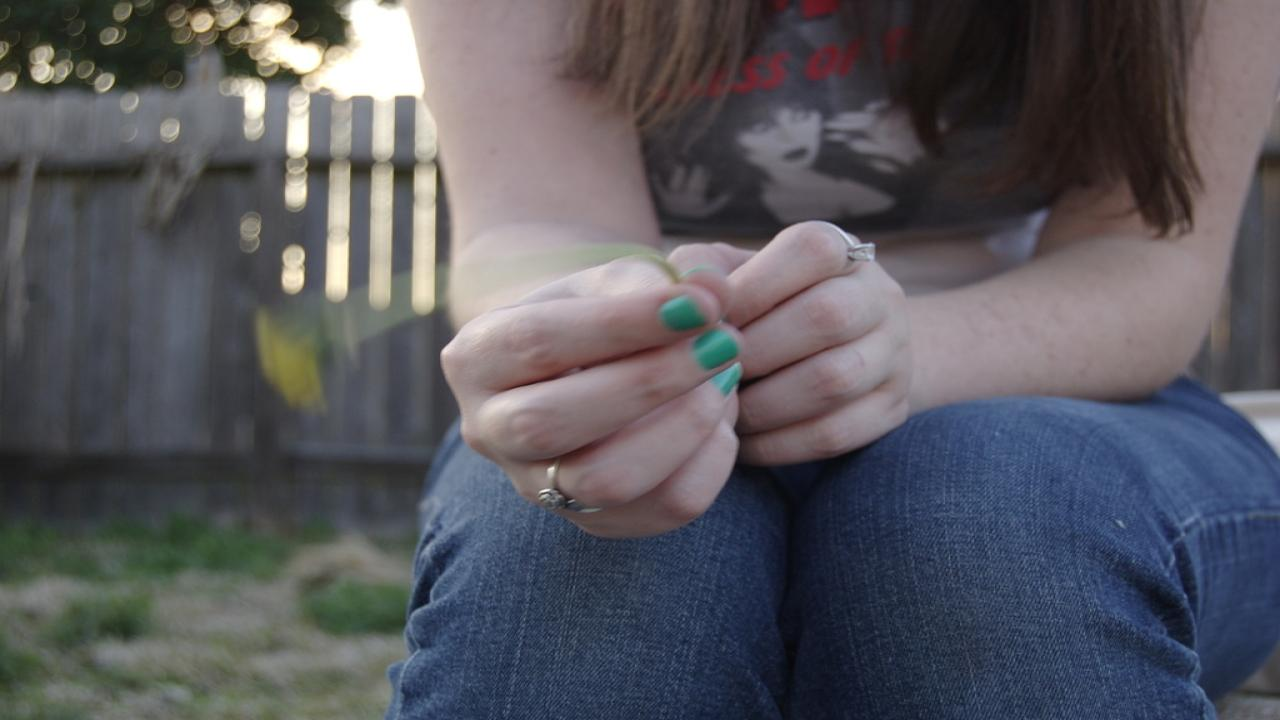ring: (538, 459, 602, 519), (828, 222, 881, 274)
